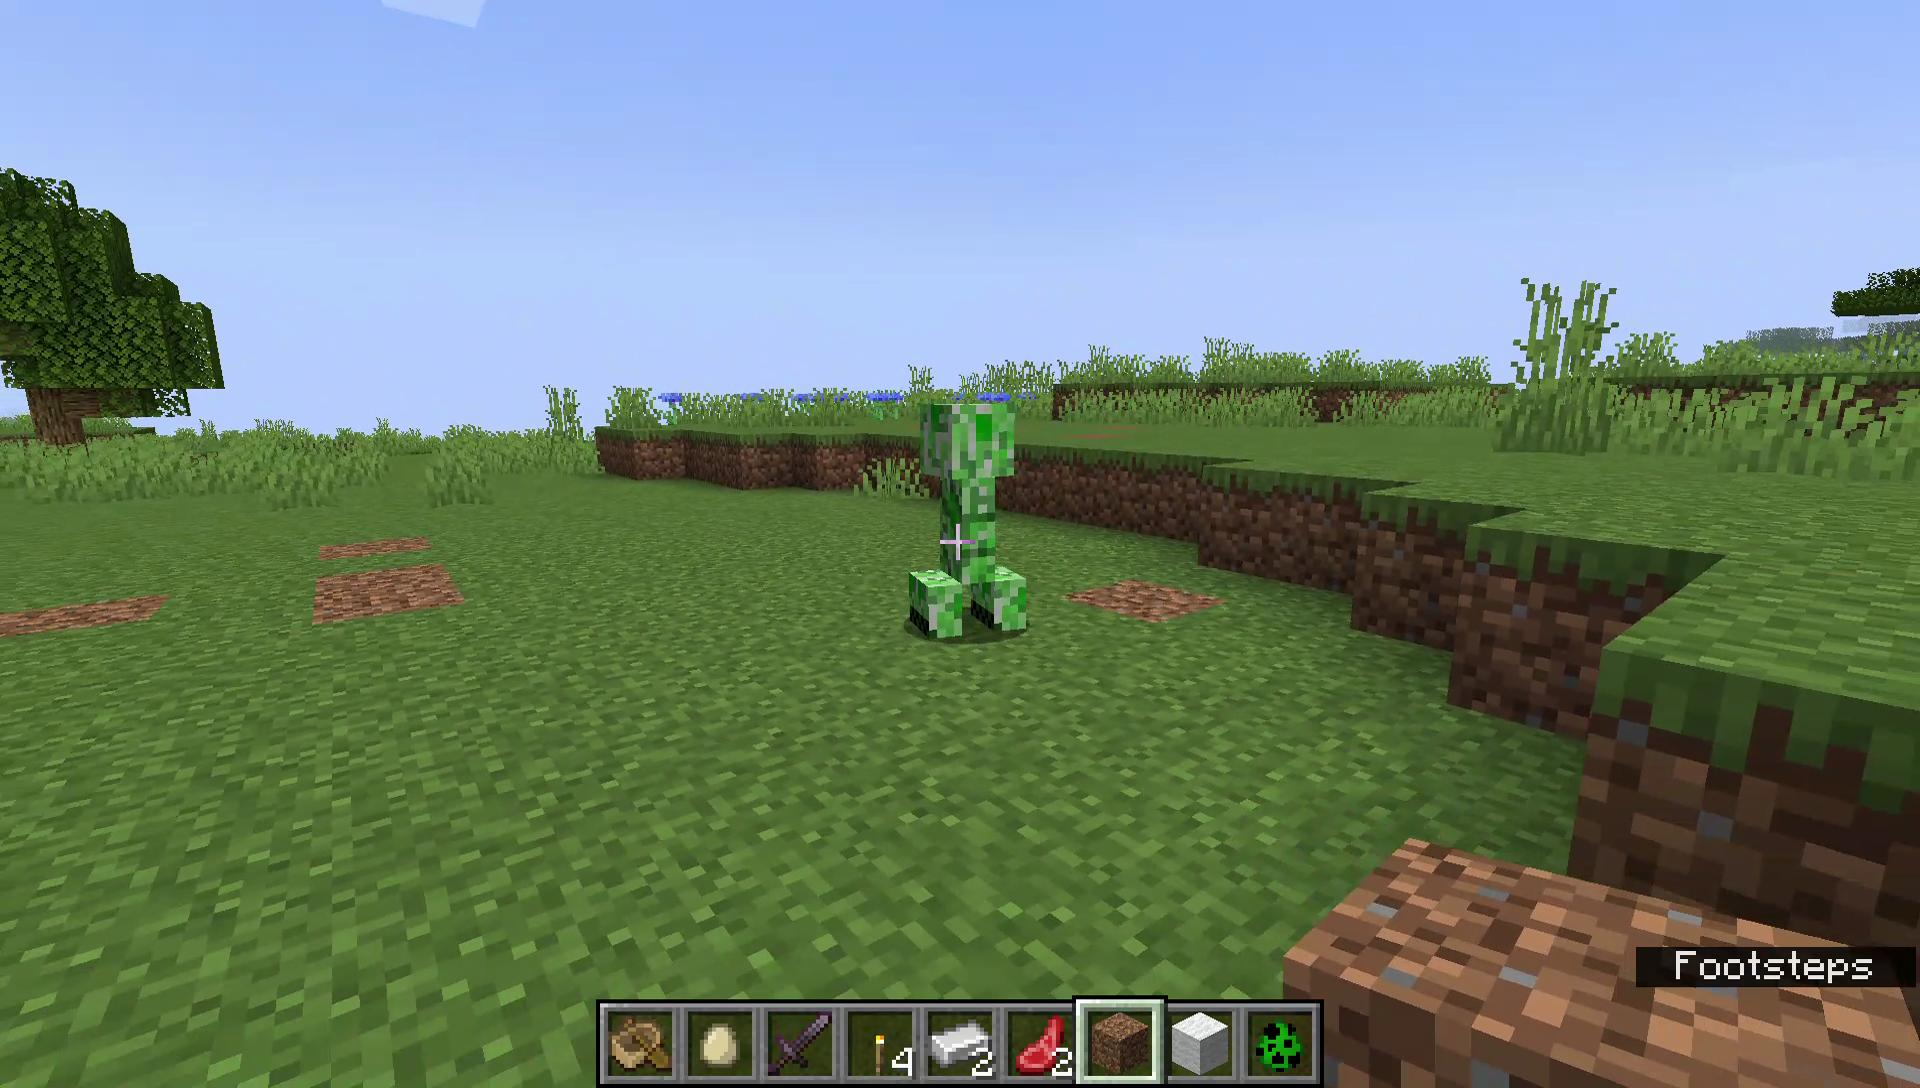creeper: (905, 394, 1033, 646)
